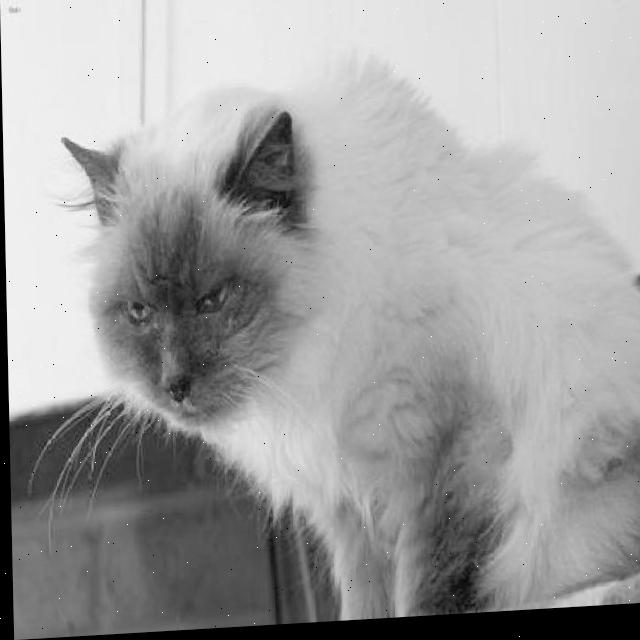Cat: (58, 55, 640, 635)
